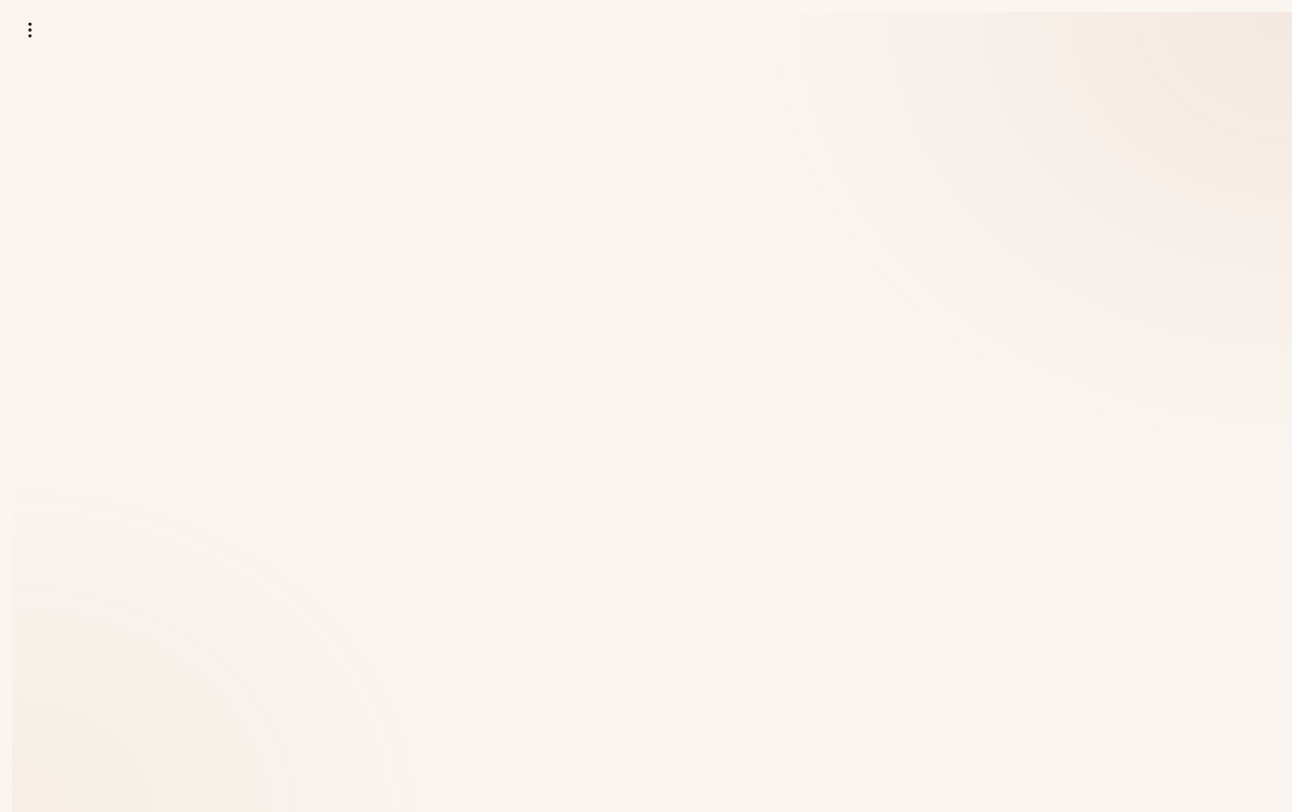
it: no remove item without an entry
Click the button named "Add Squat to a list" at (30, 30), box x1=12 y1=12 x2=48 y2=48
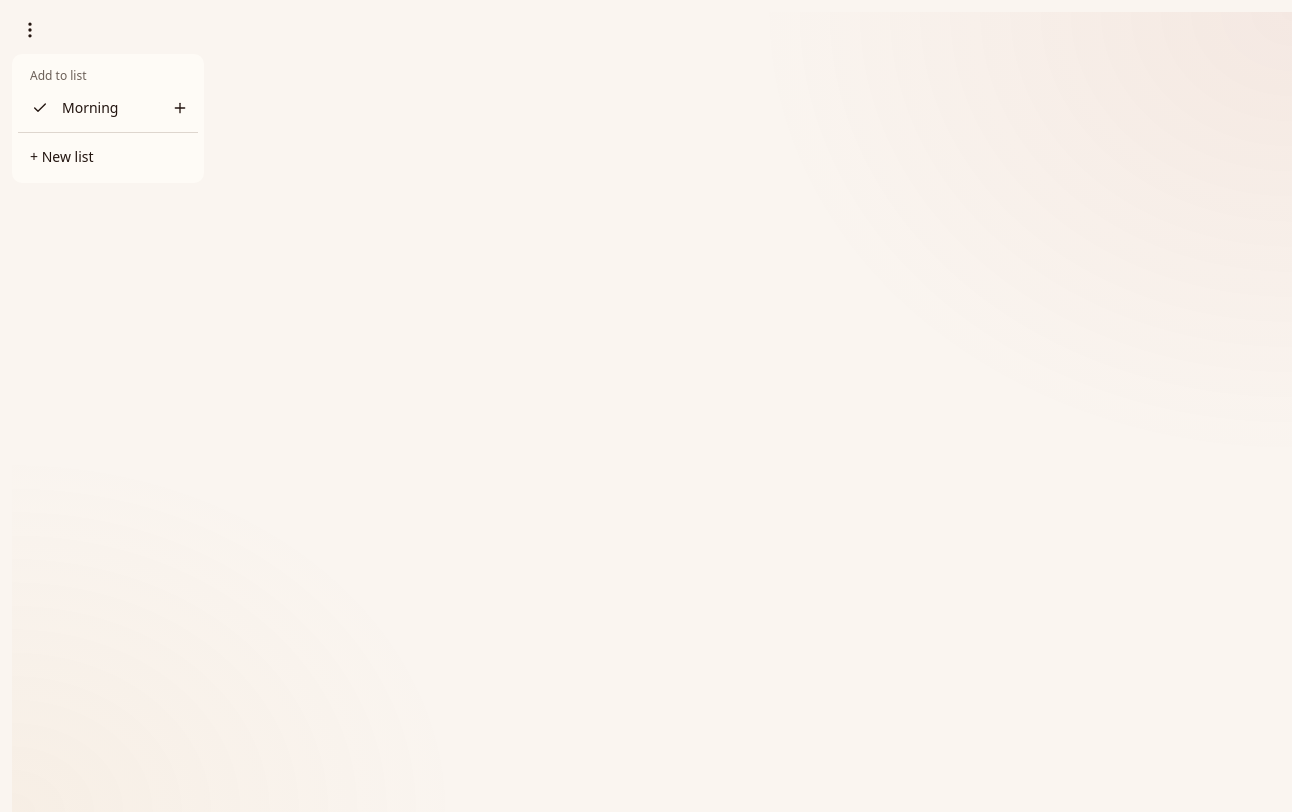
Expected: the menu is shown, x1=12 y1=54 x2=204 y2=183
